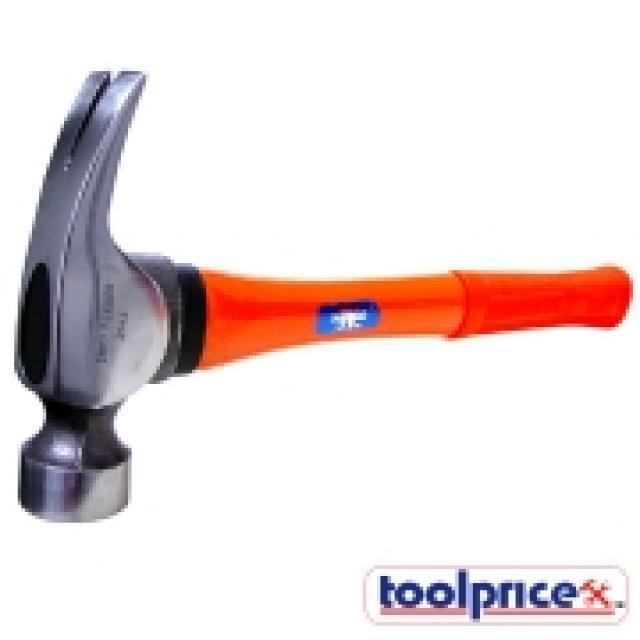hammer: (10, 57, 640, 530)
